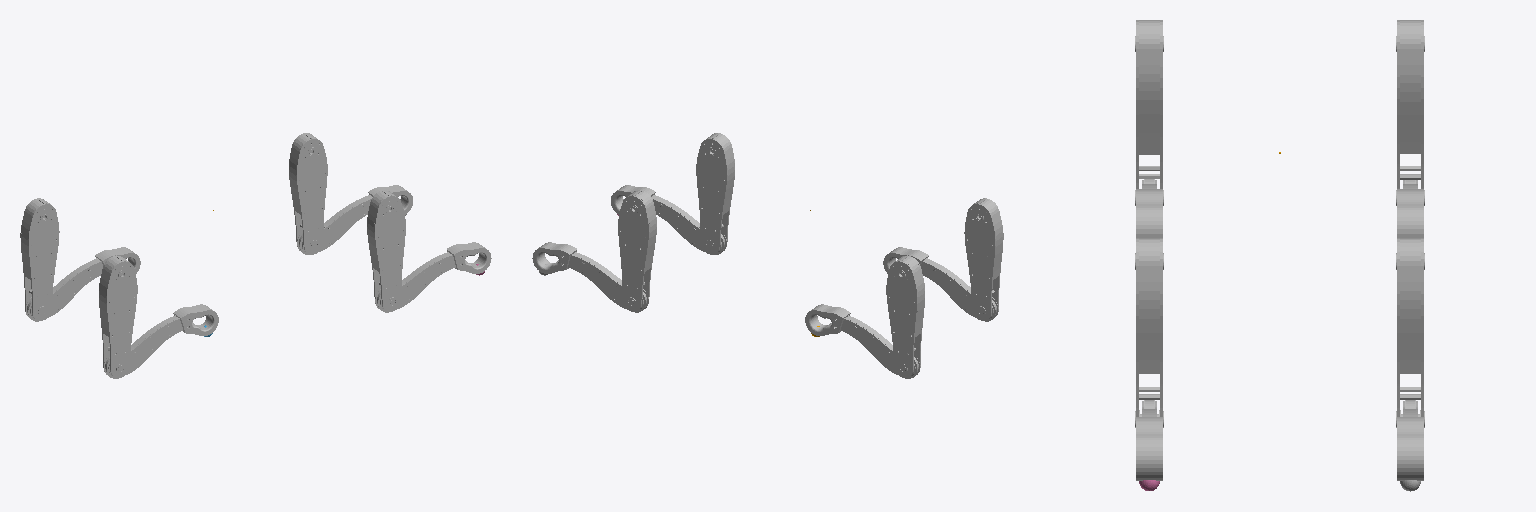
robot.urdf — svan_urdf_package:
<?xml version="1.0" encoding="utf-8"?>
<!-- This URDF was automatically created by SolidWorks to URDF Exporter! Originally created by [author] ([email redacted]) 
     Commit Version: 1.6.0-4-g7f85cfe  Build Version: 1.6.7995.38578
     For more information, please see http://wiki.ros.org/sw_urdf_exporter -->
<robot
  name="svan_urdf_package">
  <link name="base">
    <visual>
      <origin rpy="0 0 0" xyz="0 0 0"/>
      <geometry>
        <box size="0.001 0.001 0.001"/>
      </geometry>
    </visual>
  </link> 
  <joint name="floating_base" type="fixed">
    <origin rpy="0 0 0" xyz="0 0 0"/>
    <parent link="base"/>
    <child link="trunk"/>
  </joint>

  <link name="trunk">
    <inertial>
      <origin
        xyz="-0.000736126189085237 -1.72251877519347E-05 9.8768329506848E-05"
        rpy="0 0 0" />
      <mass
        value="2.99710872609609" />
      <inertia
        ixx="0.00437980864562948"
        ixy="-3.84604566302649E-08"
        ixz="-6.89975946715173E-08"
        iyy="0.0107359870662536"
        iyz="4.61648347490341E-07"
        izz="0.0128759281709884" />
    </inertial>
    <visual>
      <origin
        xyz="0 0 0"
        rpy="0 0 0" />
      <geometry>
        <mesh
          filename="../meshes/torso_link.STL" />
      </geometry>
      <material
        name="">
        <color
          rgba="0.752941176470588 0.752941176470588 0.752941176470588 1" />
      </material>
    </visual>
    <collision>
      <origin rpy="0 0 0" xyz="0 0 0"/>
      <geometry>
        <box size="0.267 0.194 0.114"/>
      </geometry>
    </collision>
  </link>
  <link name="FR_hip">
    <inertial>
      <origin
        xyz="0.0431354666865266 -0.0619037967425595 -1.28783333823018E-05"
        rpy="0 0 0" />
      <mass
        value="0.547089526327116" />
      <inertia
        ixx="0.000195963974362415"
        ixy="6.55731584977151E-06"
        ixz="8.03607942102591E-10"
        iyy="0.000300416287485921"
        iyz="-1.87450618305707E-08"
        izz="0.000205685414875868" />
    </inertial>
    <visual>
      <origin
        xyz="0 0 0"
        rpy="0 0 0" />
      <geometry>
        <mesh
          filename="../meshes/fr_abd_l.STL" />
      </geometry>
      <material
        name="">
        <color
          rgba="0.752941176470588 0.752941176470588 0.752941176470588 1" />
      </material>
    </visual>
    <!-- <collision>
      <origin
        xyz="0 0 0"
        rpy="0 0 0" />
      <geometry>
        <mesh
          filename="../meshes/fr_abd_l.STL" />
      </geometry>
    </collision> -->
  </link>
  <joint name="FR_hip_joint" type="revolute">
    <origin
      xyz="0.20368 -0.06 0"
      rpy="0 0 0" />
    <parent
      link="trunk" />
    <child
      link="FR_hip" />
    <axis
      xyz="1 0 0" />
    <dynamics damping="0" friction="0"/>
    <limit
      lower="-0.8"
      upper="0.8"
      effort="20"
      velocity="52.4" />
  </joint>
  <link name="FR_thigh">
    <inertial>
      <origin
        xyz="0.00165916788705489 0.00999999412640479 -0.0713157899491978"
        rpy="0 0 0" />
      <mass
        value="0.147108571121328" />
      <inertia
        ixx="0.000309578662803665"
        ixy="3.78430545648715E-11"
        ixz="6.9914225906236E-06"
        iyy="0.000329310052837933"
        iyz="6.78580350895923E-11"
        izz="2.13859904286806E-05" />
    </inertial>
    <visual>
      <origin
        xyz="0 0 0"
        rpy="0 0 0" />
      <geometry>
        <mesh
          filename="../meshes/fr_hip_l.STL" />
      </geometry>
      <material
        name="">
        <color
          rgba="0.752941176470588 0.752941176470588 0.752941176470588 1" />
      </material>
    </visual>
    <collision>
      <origin
        xyz="0 0 0"
        rpy="0 0 0" />
      <geometry>
        <box size="0.2 0.0245 0.034"/>
      </geometry>
    </collision>
  </link>
  <joint name="FR_thigh_joint" type="revolute">
    <origin
      xyz="0.043 -0.07525 0"
      rpy="0 0 0" />
    <parent
      link="FR_hip" />
    <child
      link="FR_thigh" />
    <axis
      xyz="0 1 0" />
    <dynamics friction="0" damping="0"/>
    <limit effort="55" lower="-1.0471975512" upper="4.18879020479" velocity="28.6"/>
  </joint>
  <link name="FR_calf">
    <inertial>
      <origin
        xyz="0.00288556341815482 1.5445513158463E-06 -0.0756253134355262"
        rpy="0 0 0" />
      <mass
        value="0.122422228142348" />
      <inertia
        ixx="9.45801447821519E-05"
        ixy="-2.61144960906036E-09"
        ixz="6.78248943065743E-06"
        iyy="0.00011005271843826"
        iyz="-5.2727542858242E-09"
        izz="2.0670821626861E-05" />
    </inertial>
    <visual>
      <origin
        xyz="0 0 0"
        rpy="0 0 0" />
      <geometry>
        <mesh
          filename="../meshes/fr_knee_l.STL" />
      </geometry>
      <material
        name="">
        <color
          rgba="0.752941176470588 0.752941176470588 0.752941176470588 1" />
      </material>
    </visual>
    <collision>
      <origin
        xyz="0 0 0"
        rpy="0 0 0" />
      <geometry>
        <box size="0.2 0.016 0.016"/>
      </geometry>
    </collision>
  </link>
  <joint name="FR_calf_joint" type="revolute">
    <origin
      xyz="0.0041389 0.01 -0.16494"
      rpy="0 0 0" />
    <parent
      link="FR_thigh" />
    <child
      link="FR_calf" />
    <axis
      xyz="0 1 0" />
    <dynamics damping="0" friction="0"/>
    <limit effort="55" lower="-2.69653369433" upper="-0.916297857297" velocity="28.6"/>
  </joint>
  <joint name="FR_foot_fixed" type="fixed" dont_collapse="true">
    <origin
      xyz="-0.026457 0 -0.16693"
      rpy="0 0 0" />
    <parent
      link="FR_calf" />
    <child
      link="FR_foot" />
  </joint>
  <link name="FL_hip">
    <inertial>
      <origin
        xyz="0.0431354666865253 0.0619037967425567 1.28783333771046E-05"
        rpy="0 0 0" />
      <mass
        value="0.547089526327068" />
      <inertia
        ixx="0.000195963974362192"
        ixy="-6.55731584978387E-06"
        ixz="-8.03607962880309E-10"
        iyy="0.000300416287485723"
        iyz="-1.87450617909673E-08"
        izz="0.000205685414875836" />
    </inertial>
    <visual>
      <origin
        xyz="0 0 0"
        rpy="0 0 0" />
      <geometry>
        <mesh
          filename="../meshes/fl_abd_l.STL" />
      </geometry>
      <material
        name="">
        <color
          rgba="0.752941176470588 0.752941176470588 0.752941176470588 1" />
      </material>
    </visual>
    <!-- <collision>
      <origin
        xyz="0 0 0"
        rpy="0 0 0" />
      <geometry>
        <mesh
          filename="../meshes/fl_abd_l.STL" />
      </geometry>
    </collision> -->
  </link>
  <joint name="FL_hip_joint" type="revolute">
    <origin
      xyz="0.20368 0.06 0"
      rpy="0 0 0" />
    <parent
      link="trunk" />
    <child
      link="FL_hip" />
    <axis
      xyz="1 0 0" />
    <dynamics damping="0" friction="0"/>
    <limit effort="20" lower="-0.802851455917" upper="0.802851455917" velocity="52.4"/>
    </joint>
  <link name="FL_thigh">
    <inertial>
      <origin
        xyz="0.0016591678870552 -0.0100000058735955 -0.0713157899491955"
        rpy="0 0 0" />
      <mass
        value="0.147108571121327" />
      <inertia
        ixx="0.000309578662803818"
        ixy="3.78430545549379E-11"
        ixz="6.99142259045296E-06"
        iyy="0.000329310052838139"
        iyz="6.78580349989196E-11"
        izz="2.13859904287332E-05" />
    </inertial>
    <visual>
      <origin
        xyz="0 0 0"
        rpy="0 0 0" />
      <geometry>
        <mesh
          filename="../meshes/fl_hip_l.STL" />
      </geometry>
      <material
        name="">
        <color
          rgba="0.752941176470588 0.752941176470588 0.752941176470588 1" />
      </material>
    </visual>
    <collision>
      <origin
        xyz="0 0 0"
        rpy="0 0 0" />
      <geometry>
        <box size="0.2 0.0245 0.034"/>
      </geometry>
    </collision>
  </link>
  <joint name="FL_thigh_joint" type="revolute">
    <origin
      xyz="0.043 0.07525 0"
      rpy="0 0 0" />
    <parent
      link="FL_hip" />
    <child
      link="FL_thigh" />
    <axis
      xyz="0 1 0" />
    <dynamics damping="0" friction="0"/>
    <limit effort="55" lower="-1.0471975512" upper="4.18879020479" velocity="28.6"/>
  </joint>
  <link name="FL_calf">
    <inertial>
      <origin
        xyz="0.00288556341815421 1.54455131551323E-06 -0.0756253134355257"
        rpy="0 0 0" />
      <mass
        value="0.122422228142348" />
      <inertia
        ixx="9.45801447821233E-05"
        ixy="-2.61144960908792E-09"
        ixz="6.78248943063961E-06"
        iyy="0.000110052718438119"
        iyz="-5.27275428583716E-09"
        izz="2.0670821626749E-05" />
    </inertial>
    <visual>
      <origin
        xyz="0 0 0"
        rpy="0 0 0" />
      <geometry>
        <mesh
          filename="../meshes/fl_knee_a.STL" />
      </geometry>
      <material
        name="">
        <color
          rgba="0.752941176470588 0.752941176470588 0.752941176470588 1" />
      </material>
    </visual>
    <collision>
      <origin
        xyz="0 0 0"
        rpy="0 0 0" />
      <geometry>
        <box size="0.2 0.016 0.016"/>
      </geometry>
    </collision>
  </link>
  <joint name="FL_calf_joint" type="revolute">
    <origin
      xyz="0.0041389 -0.01 -0.16494"
      rpy="0 0 0" />
    <parent
      link="FL_thigh" />
    <child
      link="FL_calf" />
    <axis
      xyz="0 1 0" />
    <dynamics damping="0" friction="0"/>
    <limit effort="55" lower="-2.69653369433" upper="-0.916297857297" velocity="28.6"/>
  </joint>
  <joint name="FL_foot_fixed" type="fixed" dont_collapse="true">
    <origin
      xyz="-0.026618 0 -0.16693"
      rpy="0 0 0" />
    <parent
      link="FL_calf" />
    <child
      link="FL_foot" />
  </joint>
  <link name="RR_hip">
    <inertial>
      <origin
        xyz="-0.0408339071979818 -0.0619037967425603 0.000179250427446827"
        rpy="0 0 0" />
      <mass
        value="0.547089526327114" />
      <inertia
        ixx="0.000195963974362413"
        ixy="-6.63504112736179E-06"
        ixz="8.03607941529097E-10"
        iyy="0.000300416287485919"
        iyz="6.06375583261325E-10"
        izz="0.000205685414875867" />
    </inertial>
    <visual>
      <origin
        xyz="0 0 0"
        rpy="0 0 0" />
      <geometry>
        <mesh
          filename="../meshes/rr_abd_l.STL" />
      </geometry>
      <material
        name="">
        <color
          rgba="0.752941176470588 0.752941176470588 0.752941176470588 1" />
      </material>
    </visual>
    <!-- <collision>
      <origin
        xyz="0 0 0"
        rpy="0 0 0" />
      <geometry>
        <mesh
          filename="../meshes/rr_abd_l.STL" />
      </geometry>
    </collision> -->
  </link>
  <joint name="RR_hip_joint" type="revolute">
    <origin
      xyz="-0.20482 -0.06 0"
      rpy="0 0 0" />
    <parent
      link="trunk" />
    <child
      link="RR_hip" />
    <axis
      xyz="1 0 0" />
    <dynamics damping="0" friction="0"/>
    <limit effort="20" lower="-0.802851455917" upper="0.802851455917" velocity="52.4"/>
  </joint>
  <link name="RR_thigh">
    <inertial>
      <origin
        xyz="-0.00165916788705478 0.0100000058735978 -0.0713157899491982"
        rpy="0 0 0" />
      <mass
        value="0.147108571121328" />
      <inertia
        ixx="0.000309578662803667"
        ixy="3.78430547339955E-11"
        ixz="-6.99142259061868E-06"
        iyy="0.000329310052837923"
        iyz="-6.78580243498918E-11"
        izz="2.1385990428668E-05" />
    </inertial>
    <visual>
      <origin
        xyz="0 0 0"
        rpy="0 0 0" />
      <geometry>
        <mesh
          filename="../meshes/rr_hip_l.STL" />
      </geometry>
      <material
        name="">
        <color
          rgba="0.752941176470588 0.752941176470588 0.752941176470588 1" />
      </material>
    </visual>
    <collision>
      <origin
        xyz="0 0 0"
        rpy="0 0 0" />
      <geometry>
        <box size="0.2 0.0245 0.034"/>
      </geometry>
    </collision>
  </link>
  <joint name="RR_thigh_joint" type="revolute">
    <origin
      xyz="-0.043 -0.07525 0"
      rpy="0 0 0" />
    <parent
      link="RR_hip" />
    <child
      link="RR_thigh" />
    <axis
      xyz="0 1 0" />
    <dynamics damping="0" friction="0"/>
    <limit effort="55" lower="-1.0471975512" upper="4.18879020479" velocity="28.6"/>
  </joint>
  <link name="RR_calf">
    <inertial>
      <origin
        xyz="0.00654595759568111 1.5446183047052E-06 -0.0753966327483542"
        rpy="0 0 0" />
      <mass
        value="0.122422246876929" />
      <inertia
        ixx="9.37491120274394E-05"
        ixy="-2.35343019264926E-09"
        ixz="1.03265117822068E-05"
        iyy="0.000110051537971271"
        iyz="-5.39219781160484E-09"
        izz="2.15006699644239E-05" />
    </inertial>
    <visual>
      <origin
        xyz="0 0 0"
        rpy="0 0 0" />
      <geometry>
        <mesh
          filename="../meshes/rr_knee_l.STL" />
      </geometry>
      <material
        name="">
        <color
          rgba="0.752941176470588 0.752941176470588 0.752941176470588 1" />
      </material>
    </visual>
    <collision>
      <origin
        xyz="0 0 0"
        rpy="0 0 0" />
      <geometry>
        <box size="0.2 0.016 0.016"/>
      </geometry>
    </collision>
  </link>
  <joint name="RR_calf_joint" type="revolute">
    <origin
      xyz="-0.0038618 0.01 -0.16493"
      rpy="0 0 0" />
    <parent
      link="RR_thigh" />
    <child
      link="RR_calf" />
    <axis
      xyz="0 1 0" />
    <dynamics damping="0" friction="0"/>
    <limit effort="55" lower="-2.69653369433" upper="-0.916297857297" velocity="28.6"/>
  </joint>
  <!-- <link
    name="rr_dummy_l">
    <inertial>
      <origin
        xyz="0.00149798440726828 3.10862446895044E-15 7.7734905568394E-05"
        rpy="0 0 0" />
      <mass
        value="9.42477796076944E-06" />
      <inertia
        ixx="4.72504481421764E-12"
        ixy="-1.40725882958467E-27"
        ixz="-2.43883254369301E-13"
        iyy="9.42477796076952E-12"
        iyz="-7.74661408927972E-29"
        izz="9.41212212693661E-12" />
    </inertial>
    <visual>
      <origin
        xyz="0 0 0"
        rpy="0 0 0" />
      <geometry>
        <mesh
          filename="../meshes/rr_dummy_l.STL" />
      </geometry>
      <material
        name="">
        <color
          rgba="0.792156862745098 0.819607843137255 0.933333333333333 1" />
      </material>
    </visual>
    <collision>
      <origin
        xyz="0 0 0"
        rpy="0 0 0" />
      <geometry>
        <mesh
          filename="../meshes/rr_dummy_l.STL" />
      </geometry>
    </collision>
  </link> -->
  <joint name="RR_foot_fixed" type="fixed" dont_collapse="true">
    <origin
      xyz="-0.018339 0 -0.16802"
      rpy="0 0 0" />
    <parent
      link="RR_calf" />
    <child
      link="RR_foot" />
  </joint>
  <link name="RL_hip">
    <inertial>
      <origin
        xyz="-0.0408339071979842 0.0619037967425569 -0.000179250427450348"
        rpy="0 0 0" />
      <mass
        value="0.547089526327067" />
      <inertia
        ixx="0.000195963974362192"
        ixy="6.6350411273486E-06"
        ixz="-8.03607962384451E-10"
        iyy="0.000300416287485722"
        iyz="6.06375623877521E-10"
        izz="0.000205685414875835" />
    </inertial>
    <visual>
      <origin
        xyz="0 0 0"
        rpy="0 0 0" />
      <geometry>
        <mesh
          filename="../meshes/rl_abd_l.STL" />
      </geometry>
      <material
        name="">
        <color
          rgba="0.752941176470588 0.752941176470588 0.752941176470588 1" />
      </material>
    </visual>
    <!-- <collision>
      <origin
        xyz="0 0 0"
        rpy="0 0 0" />
      <geometry>
        <mesh
          filename="../meshes/rl_abd_l.STL" />
      </geometry>
    </collision> -->
  </link>
  <joint name="RL_hip_joint" type="revolute">
    <origin
      xyz="-0.20482 0.06 0"
      rpy="0 0 0" />
    <parent
      link="trunk" />
    <child
      link="RL_hip" />
    <axis
      xyz="1 0 0" />
    <dynamics damping="0" friction="0"/>
    <limit effort="20" lower="-0.802851455917" upper="0.802851455917" velocity="52.4"/>
  </joint>
  <link name="RL_thigh">
    <inertial>
      <origin
        xyz="-0.00179950691259256 -0.0100000058735954 -0.0713123896470731"
        rpy="0 0 0" />
      <mass
        value="0.147108560926126" />
      <inertia
        ixx="0.000309580559412878"
        ixy="4.14968005699223E-11"
        ixz="-6.9946474189349E-06"
        iyy="0.00032931216560272"
        iyz="6.56222779612308E-11"
        izz="2.13861970709628E-05" />
    </inertial>
    <visual>
      <origin
        xyz="0 0 0"
        rpy="0 0 0" />
      <geometry>
        <mesh
          filename="../meshes/rl_hip_l.STL" />
      </geometry>
      <material
        name="">
        <color
          rgba="0.752941176470588 0.752941176470588 0.752941176470588 1" />
      </material>
    </visual>
    <collision>
      <origin
        xyz="0 0 0"
        rpy="0 0 0" />
      <geometry>
        <box size="0.2 0.0245 0.034"/>
      </geometry>
    </collision>
  </link>
  <joint name="RL_thigh_joint" type="revolute">
    <origin
      xyz="-0.043 0.07525 0"
      rpy="0 0 0" />
    <parent
      link="RL_hip" />
    <child
      link="RL_thigh" />
    <axis
      xyz="0 1 0" />
    <dynamics damping="0" friction="0"/>
    <limit effort="55" lower="-1.0471975512" upper="4.18879020479" velocity="28.6"/>
  </joint>
  <link name="RL_calf">
    <inertial>
      <origin
        xyz="0.00654594639576345 1.54461741741496E-06 -0.0753966803284335"
        rpy="0 0 0" />
      <mass
        value="0.122422317176859" />
      <inertia
        ixx="9.3749108734946E-05"
        ixy="-2.3534371458569E-09"
        ixz="1.03265058974487E-05"
        iyy="0.000110051571045759"
        iyz="-5.39219909611954E-09"
        izz="2.15007107251529E-05" />
    </inertial>
    <visual>
      <origin
        xyz="0 0 0"
        rpy="0 0 0" />
      <geometry>
        <mesh
          filename="../meshes/rl_knee_l.STL" />
      </geometry>
      <material
        name="">
        <color
          rgba="0.752941176470588 0.752941176470588 0.752941176470588 1" />
      </material>
    </visual>
    <collision>
      <origin
        xyz="0 0 0"
        rpy="0 0 0" />
      <geometry>
        <box size="0.2 0.016 0.016"/>
      </geometry>
    </collision>
  </link>
  <joint name="RL_calf_joint" type="revolute">
    <origin
      xyz="-0.0038618 -0.01 -0.16493"
      rpy="0 0 0" />
    <parent
      link="RL_thigh" />
    <child
      link="RL_calf" />
    <axis
      xyz="0 1 0" />
    <dynamics damping="0" friction="0"/>
    <limit effort="55" lower="-2.69653369433" upper="-0.916297857297" velocity="28.6"/>
  </joint>
  <!-- <link
    name="rl_dummy_l">
    <inertial>
      <origin
        xyz="0.0014979844072685 1.99840144432528E-15 7.77349055681165E-05"
        rpy="0 0 0" />
      <mass
        value="9.42477796076945E-06" />
      <inertia
        ixx="4.72504481421764E-12"
        ixy="-2.75052131823419E-27"
        ixz="-2.43883254369304E-13"
        iyy="9.42477796076952E-12"
        iyz="2.68212707776922E-29"
        izz="9.41212212693661E-12" />
    </inertial>
    <visual>
      <origin
        xyz="0 0 0"
        rpy="0 0 0" />
      <geometry>
        <mesh
          filename="../meshes/rl_dummy_l.STL" />
      </geometry>
      <material
        name="">
        <color
          rgba="0.792156862745098 0.819607843137255 0.933333333333333 1" />
      </material>
    </visual>
    <collision>
      <origin
        xyz="0 0 0"
        rpy="0 0 0" />
      <geometry>
        <mesh
          filename="../meshes/rl_dummy_l.STL" />
      </geometry>
    </collision>
  </link> -->
  <link name="FR_foot">
    <inertial>
        <origin xyz="0.0014979844072685 1.99840144432528E-15 7.77349055681165E-05"
        rpy="0 0 0" /> 
        <mass value="0.025" />
        <inertia ixx="2e-6" ixy="0" ixz="0" iyy="2e-6" iyz="0" izz="2e-6" />
      </inertial>
      <visual>
        <origin xyz="0 0 0" rpy="0 0 0" />
        <geometry>
          <sphere radius="0.01" />
        </geometry>
      </visual>
      <collision>
        <origin xyz="0 0 0" rpy="0 0 0" />
        <geometry>
          <sphere radius="0.01" />
        </geometry>
      </collision>
  </link>
  <link name="FL_foot">
    <inertial>
        <origin xyz="0.0014979844072685 1.99840144432528E-15 7.77349055681165E-05"
        rpy="0 0 0" /> 
        <mass value="0.025" />
        <inertia ixx="2e-6" ixy="0" ixz="0" iyy="2e-6" iyz="0" izz="2e-6" />
      </inertial>
      <visual>
        <origin xyz="0 0 0" rpy="0 0 0" />
        <geometry>
          <sphere radius="0.01" />
        </geometry>
      </visual>
      <collision>
        <origin xyz="0 0 0" rpy="0 0 0" />
        <geometry>
          <sphere radius="0.01" />
        </geometry>
      </collision>
  </link>
  <link name="RL_foot">
    <inertial>
        <origin xyz="0.0014979844072685 1.99840144432528E-15 7.77349055681165E-05"
        rpy="0 0 0" /> 
        <mass value="0.025" />
        <inertia ixx="2e-6" ixy="0" ixz="0" iyy="2e-6" iyz="0" izz="2e-6" />
      </inertial>
      <visual>
        <origin xyz="0 0 0" rpy="0 0 0" />
        <geometry>
          <sphere radius="0.01" />
        </geometry>
      </visual>
      <collision>
        <origin xyz="0 0 0" rpy="0 0 0" />
        <geometry>
          <sphere radius="0.01" />
        </geometry>
      </collision>
  </link>
  <link name="RR_foot">
    <inertial>
        <origin xyz="0.0014979844072685 1.99840144432528E-15 7.77349055681165E-05"
        rpy="0 0 0" /> 
        <mass value="0.025" />
        <inertia ixx="2e-6" ixy="0" ixz="0" iyy="2e-6" iyz="0" izz="2e-6" />
      </inertial>
      <visual>
        <origin xyz="0 0 0" rpy="0 0 0" />
        <geometry>
          <sphere radius="0.01" />
        </geometry>
      </visual>
      <collision>
        <origin xyz="0 0 0" rpy="0 0 0" />
        <geometry>
          <sphere radius="0.01" />
        </geometry>
      </collision>
  </link>
  <joint name="RL_foot_fixed" type="fixed" dont_collapse="true" >
    <origin
      xyz="-0.0185 0 -0.16802"
      rpy="0 0 0" />
    <parent
      link="RL_calf" />
    <child
      link="RL_foot" />
  </joint>
</robot>

--- Facts derived from the render (not from the file) ---
Views: 3 orthographic renders of the robot side by side, from view 1: azimuth 30°, elevation 25°; view 2: azimuth 150°, elevation 25°; view 3: azimuth 270°, elevation 25°.
Model svan_urdf_package with 18 links and 17 joints (12 revolute, 5 fixed), rooted at base, posed joints at zero except 4 at the middle of their limits (FR_calf_joint = -1.81, FL_calf_joint = -1.81, RR_calf_joint = -1.81, RL_calf_joint = -1.81).
Links seen in each view (by area): view 1: RR_thigh, RL_thigh, FR_thigh, FL_thigh, RR_calf, FR_calf, RL_calf, FL_calf; view 2: RR_thigh, RL_thigh, FL_thigh, FR_thigh, RL_calf, FL_calf, RR_calf, FR_calf; view 3: FR_thigh, FL_thigh, RR_thigh, RL_thigh, FR_calf, FL_calf, RR_calf, RL_calf.
Link boxes in pixels (bbox=[...]): RR_thigh: bbox=[99, 255, 137, 377]; RL_thigh: bbox=[20, 198, 59, 320]; FR_thigh: bbox=[367, 190, 405, 311]; FL_thigh: bbox=[289, 133, 327, 254]; RR_calf: bbox=[103, 304, 218, 378]; FR_calf: bbox=[375, 242, 491, 312]; RL_calf: bbox=[25, 247, 140, 321]; FL_calf: bbox=[297, 185, 412, 254]; RR_thigh: bbox=[964, 198, 1003, 320]; RL_thigh: bbox=[886, 255, 924, 377]; FL_thigh: bbox=[618, 190, 656, 311]; FR_thigh: bbox=[696, 133, 734, 254]; RL_calf: bbox=[805, 304, 920, 378]; FL_calf: bbox=[532, 242, 648, 312]; RR_calf: bbox=[883, 247, 998, 321]; FR_calf: bbox=[611, 185, 726, 254]; FR_thigh: bbox=[1135, 238, 1163, 427]; FL_thigh: bbox=[1396, 238, 1424, 427]; RR_thigh: bbox=[1135, 20, 1163, 205]; RL_thigh: bbox=[1396, 20, 1424, 205]; FR_calf: bbox=[1136, 400, 1162, 480]; FL_calf: bbox=[1397, 400, 1423, 480]; RR_calf: bbox=[1136, 179, 1162, 237]; RL_calf: bbox=[1397, 180, 1423, 237].
Bounding box of the posed robot: 0.7121 × 0.2785 × 0.209 m (x, y, z).
8 mesh visuals loaded from 13 distinct referenced files (8 binary STL); not drawn: 5 (reference not matched to a file when rendering).
